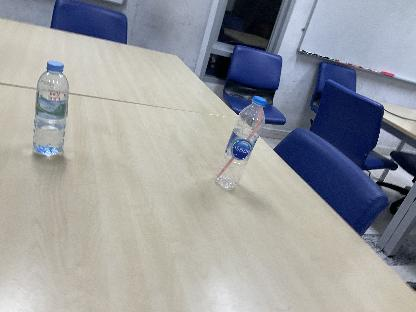Plastic Bottle: (216, 96, 266, 194), (32, 60, 70, 158)
